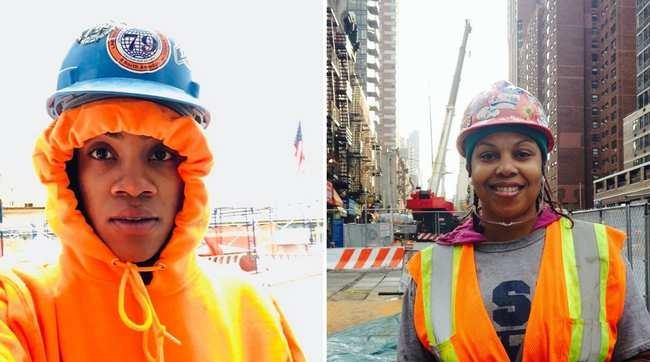helmet: (43, 22, 209, 123), (455, 81, 556, 159)
